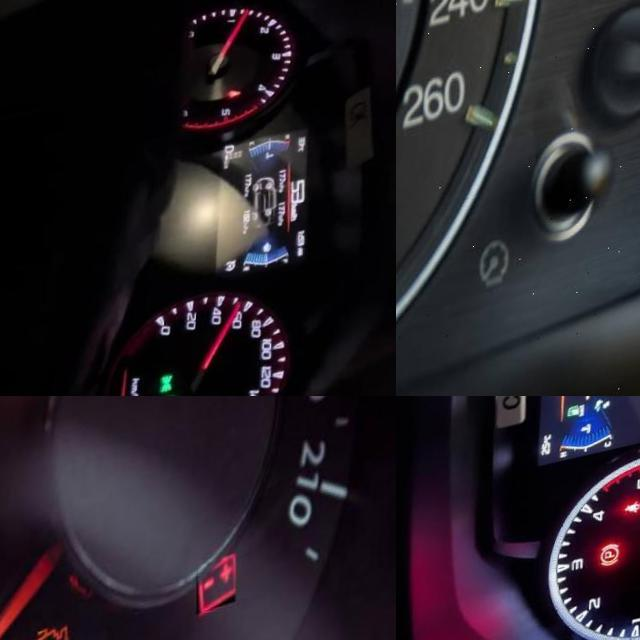Seat Belt: (629, 514, 640, 530), (231, 102, 244, 115)
